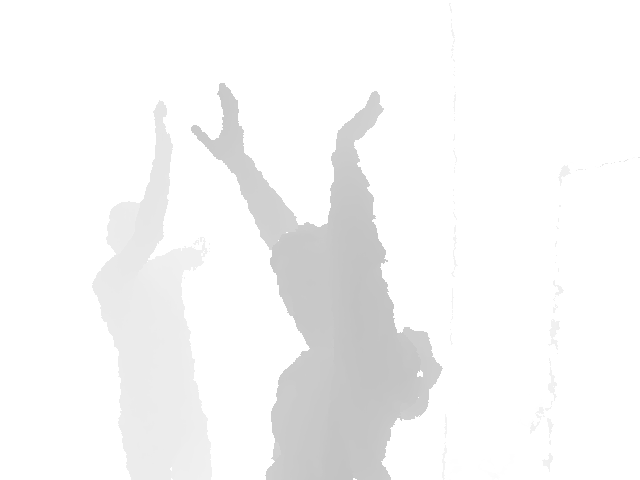hand: (190, 83, 245, 160), (335, 91, 384, 149), (152, 102, 173, 146)
head: (267, 222, 347, 353), (104, 201, 152, 260)
person: (190, 83, 443, 480), (91, 102, 215, 480)
